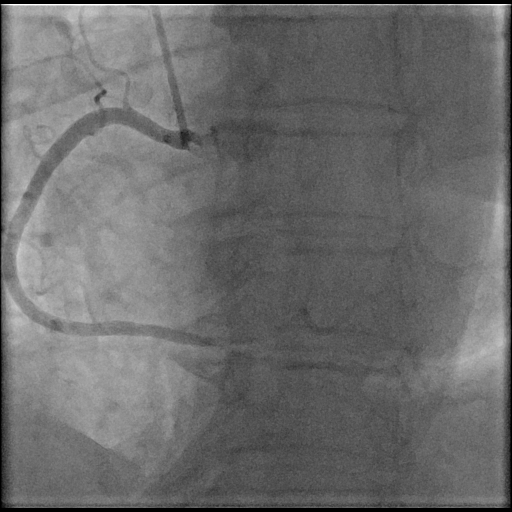RCA: (3, 105, 216, 348)
catherter: (149, 3, 189, 134)
